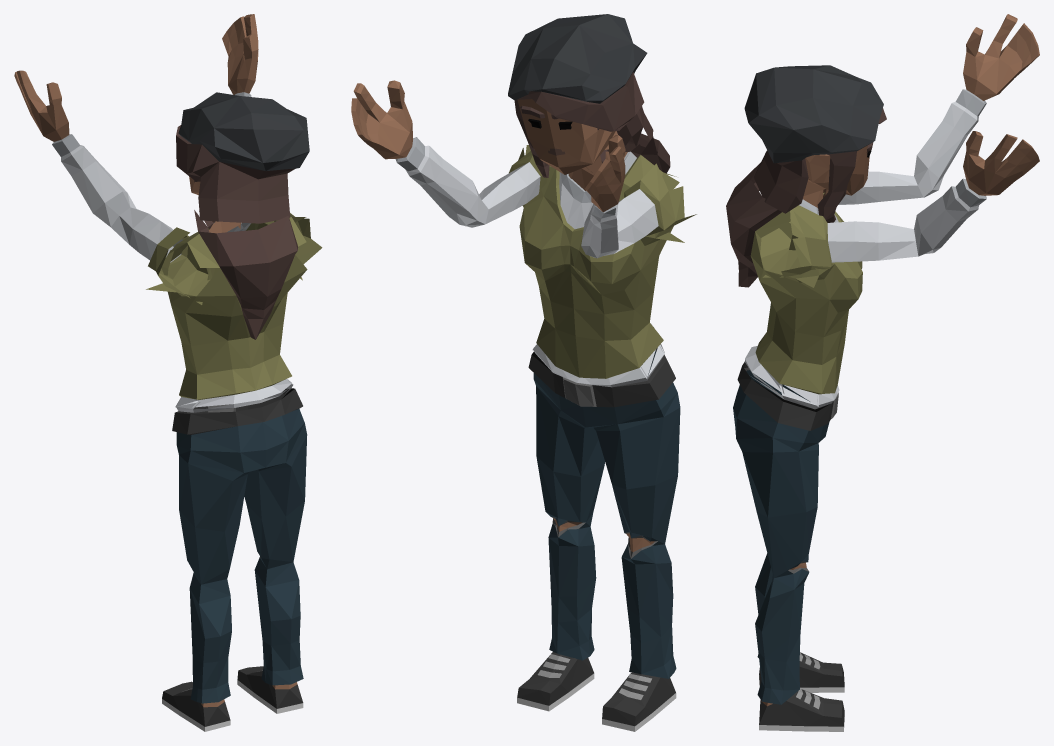
The model's file is Daughter_Dancing.obj.
3 views of the same model, side by side, from view 1: azimuth 30°, elevation 25°; view 2: azimuth 150°, elevation 25°; view 3: azimuth 270°, elevation 25° (orthographic). The views are drawn at different scales.
Parts seen in each view (by area): view 1: Daughter_Dancing; view 2: Daughter_Dancing; view 3: Daughter_Dancing.
Part boxes in pixels (bbox=[...]): Daughter_Dancing: bbox=[14, 14, 322, 731]; Daughter_Dancing: bbox=[351, 14, 696, 731]; Daughter_Dancing: bbox=[726, 14, 1039, 731].
Size of the model in its own units: 0.7516 by 1.84 by 0.8179.
Materials: 1 (1 with a texture image).
